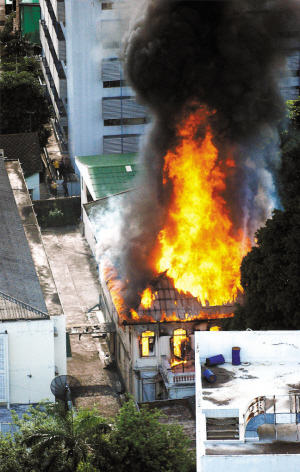fire: (146, 89, 259, 309)
